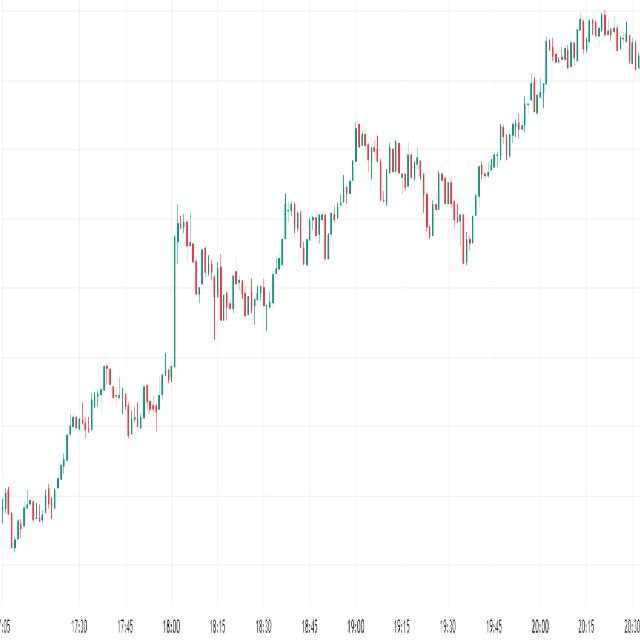Channel-down: (337, 92, 492, 292)
Channel-up: (469, 0, 592, 219)
Descending-Triangle: (170, 152, 299, 327)
